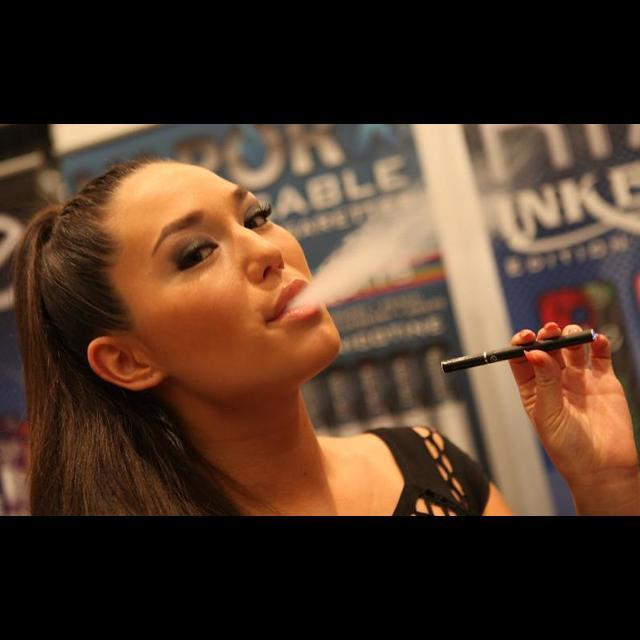rokok: (438, 328, 604, 374)
